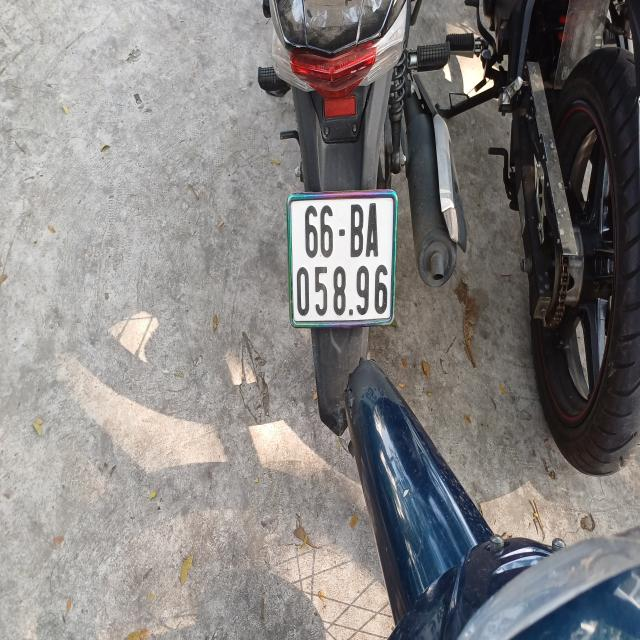0: (295, 265, 310, 317)
5: (314, 264, 328, 314)
6: (303, 203, 319, 257), (319, 204, 334, 257), (374, 264, 388, 316)
8: (333, 265, 347, 318)
9: (356, 264, 370, 316)
A: (367, 201, 379, 259)
B: (348, 202, 364, 257)
